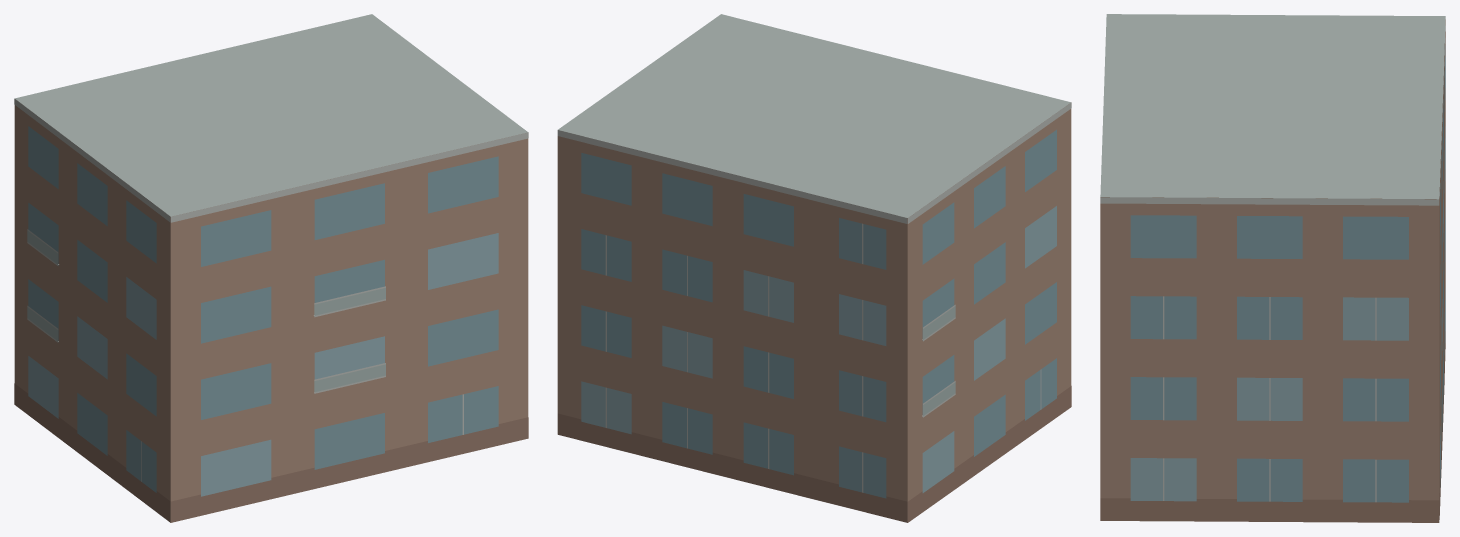
The model's file is residential-f8a84cb1-3981-447d-86e3-3eaa789f1a6e.glb.
3 renders of one model, left to right at view 1: azimuth 30°, elevation 25°; view 2: azimuth 150°, elevation 25°; view 3: azimuth 270°, elevation 25°, orthographic. The views are drawn at different scales.
Parts seen in each view (by area): view 1: residential-f8a84cb1-3981-447d-86e3-3eaa789f1a6e.tmp; view 2: residential-f8a84cb1-3981-447d-86e3-3eaa789f1a6e.tmp; view 3: residential-f8a84cb1-3981-447d-86e3-3eaa789f1a6e.tmp.
Part boxes in pixels (box(x1,y1,x2,y2)): residential-f8a84cb1-3981-447d-86e3-3eaa789f1a6e.tmp: box(14, 14, 528, 522); residential-f8a84cb1-3981-447d-86e3-3eaa789f1a6e.tmp: box(557, 14, 1071, 522); residential-f8a84cb1-3981-447d-86e3-3eaa789f1a6e.tmp: box(1100, 14, 1445, 522).
Size of the model in its own units: 14.97 by 12.2 by 11.8.
